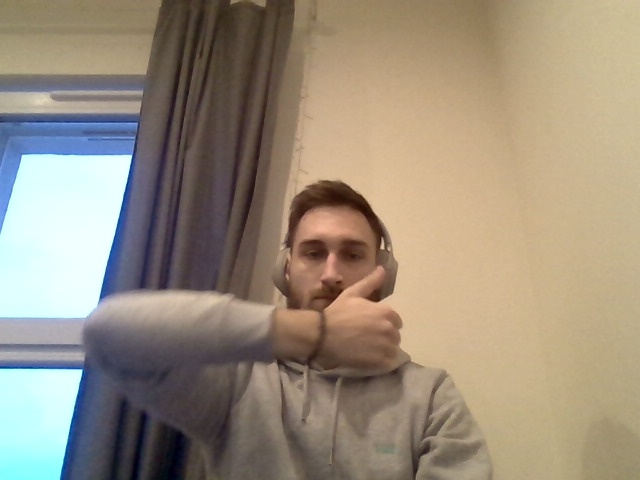ThumbsUp: (318, 265, 404, 370)
